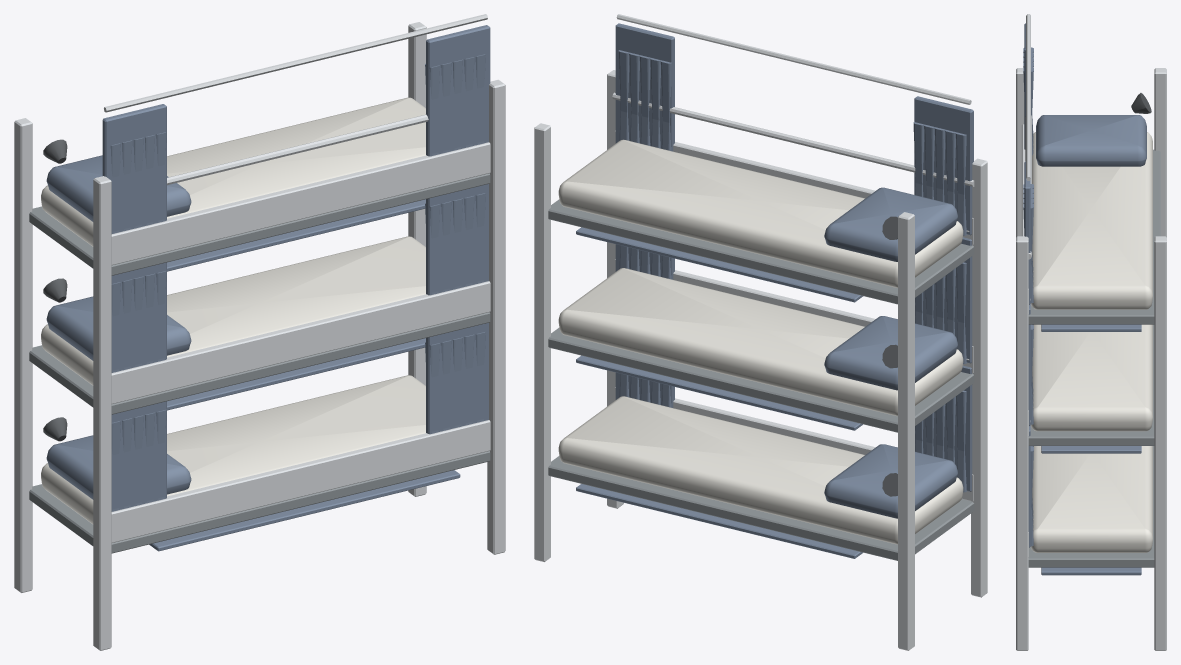
File: submarine-interior-and-control-room-bunk-stack-with-cu-374a4fc5__36498.glb
3 views of the same model, side by side, from view 1: azimuth 30°, elevation 25°; view 2: azimuth 150°, elevation 25°; view 3: azimuth 270°, elevation 25° (orthographic). The views are drawn at different scales.
Visible parts, largest first — view 1: bunk-stack-with-curtains; view 2: bunk-stack-with-curtains; view 3: bunk-stack-with-curtains.
Part boxes in pixels (x1,y1,x2,y2): bunk-stack-with-curtains: [14, 14, 505, 650]; bunk-stack-with-curtains: [534, 14, 987, 650]; bunk-stack-with-curtains: [1016, 14, 1166, 650].
Bounding box in the file's own units: 1.96 × 2.47 × 0.7199.
